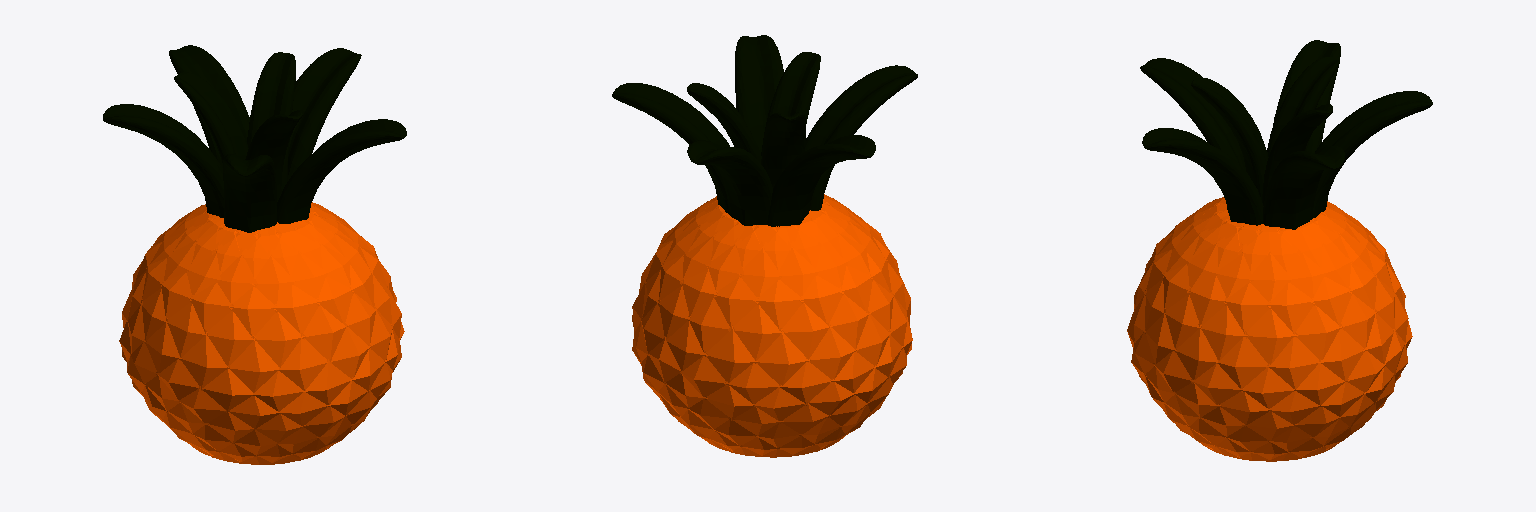
File: Pineapple.obj
3 views of the same model, side by side, from view 1: azimuth 30°, elevation 25°; view 2: azimuth 150°, elevation 25°; view 3: azimuth 270°, elevation 25° (orthographic).
Parts seen in each view (by area): view 1: 球.036, 立方体.004, 立方体.001, 立方体.003, 立方体.026, 立方体.007, 立方体.006, 立方体.002, 立方体.008; view 2: 球.036, 立方体.026, 立方体.001, 立方体.002, 立方体.004, 立方体.003, 立方体.006, 立方体.008, 立方体.007; view 3: 球.036, 立方体.004, 立方体.003, 立方体.002, 立方体.026, 立方体.008, 立方体.006, 立方体.007, 立方体.001.
Part boxes in pixels (x1,y1,x2,y2): 球.036: (119, 202, 404, 464); 立方体.004: (277, 119, 406, 223); 立方体.001: (103, 104, 223, 217); 立方体.003: (288, 48, 361, 180); 立方体.026: (223, 154, 276, 232); 立方体.007: (247, 52, 295, 193); 立方体.006: (174, 72, 248, 162); 立方体.002: (169, 45, 249, 167); 立方体.008: (245, 110, 302, 201); 球.036: (632, 194, 912, 457); 立方体.026: (805, 65, 917, 210); 立方体.001: (767, 135, 875, 226); 立方体.002: (687, 140, 772, 225); 立方体.004: (735, 35, 783, 152); 立方体.003: (612, 83, 729, 213); 立方体.006: (761, 112, 805, 187); 立方体.008: (761, 52, 820, 155); 立方体.007: (687, 83, 761, 162); 球.036: (1127, 197, 1412, 461); 立方体.004: (1142, 128, 1263, 225); 立方体.003: (1263, 146, 1345, 229); 立方体.002: (1312, 91, 1432, 218); 立方体.026: (1140, 58, 1245, 170); 立方体.008: (1191, 77, 1268, 199); 立方体.006: (1267, 57, 1339, 156); 立方体.007: (1262, 104, 1332, 205); 立方体.001: (1273, 40, 1340, 152).
Bounding box in the file's own units: 0.842 × 1.08 × 0.8653.